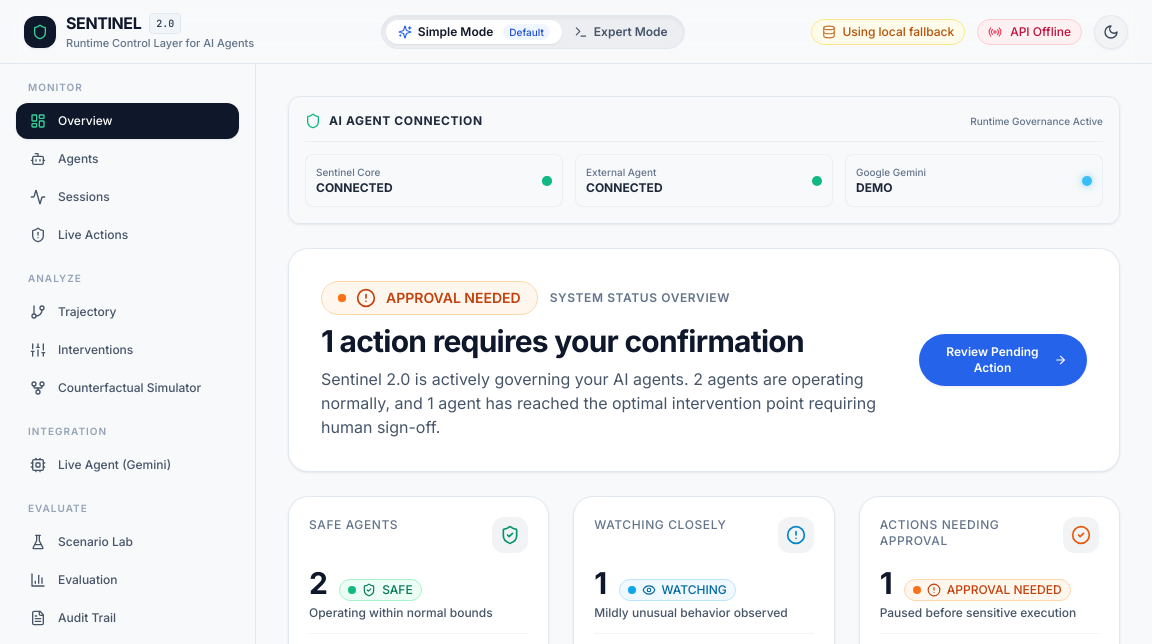
Test case: Sentinel 2.0 Frontend Foundation › switches seamlessly to Expert Mode and back without crashing
# Switch to Expert Mode
What coordinates should you click on to do the following:
click the radio button labelled "Expert Mode"
I would click on:
 (621, 32)
Its box is 562,20 -> 680,44.
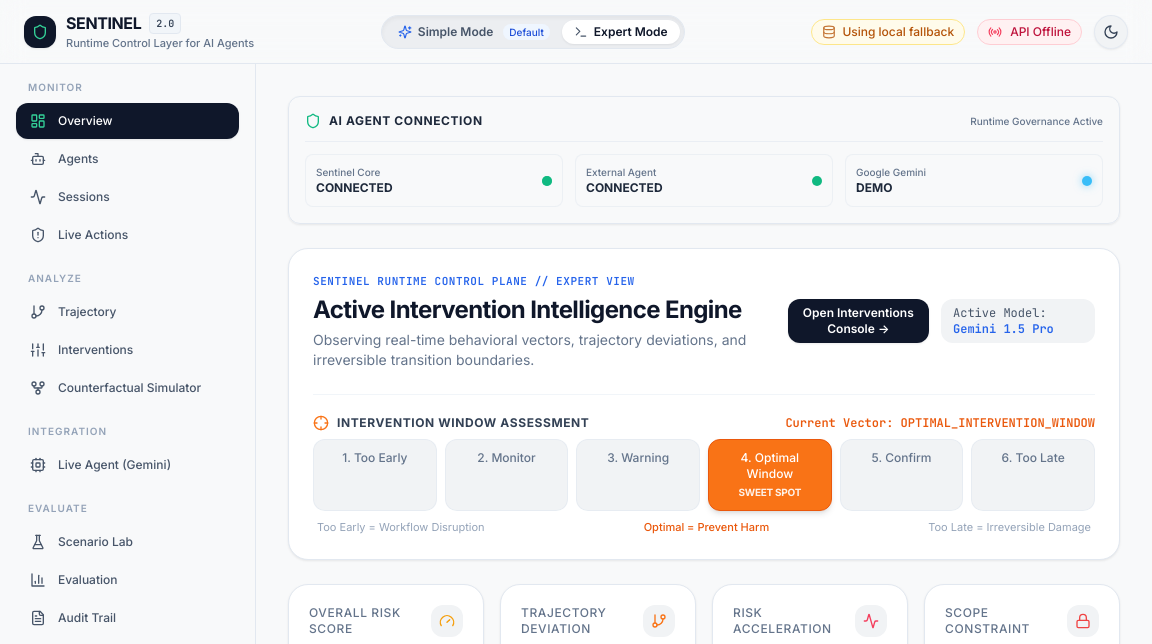
Expected: the text "Intervention Window Assessment" is shown, 313,414 -> 590,430
Expected: the heading "Active Intervention Intelligence Engine" is shown, 313,294 -> 772,326
Expected: the text "trajectory deviation" is shown, 313,330 -> 746,368
# Switch back to Simple Mode
What coordinates should you click on to do the following:
click the radio button labelled "Simple Mode Default"
I would click on:
 (474, 32)
Its box is 386,20 -> 562,44.
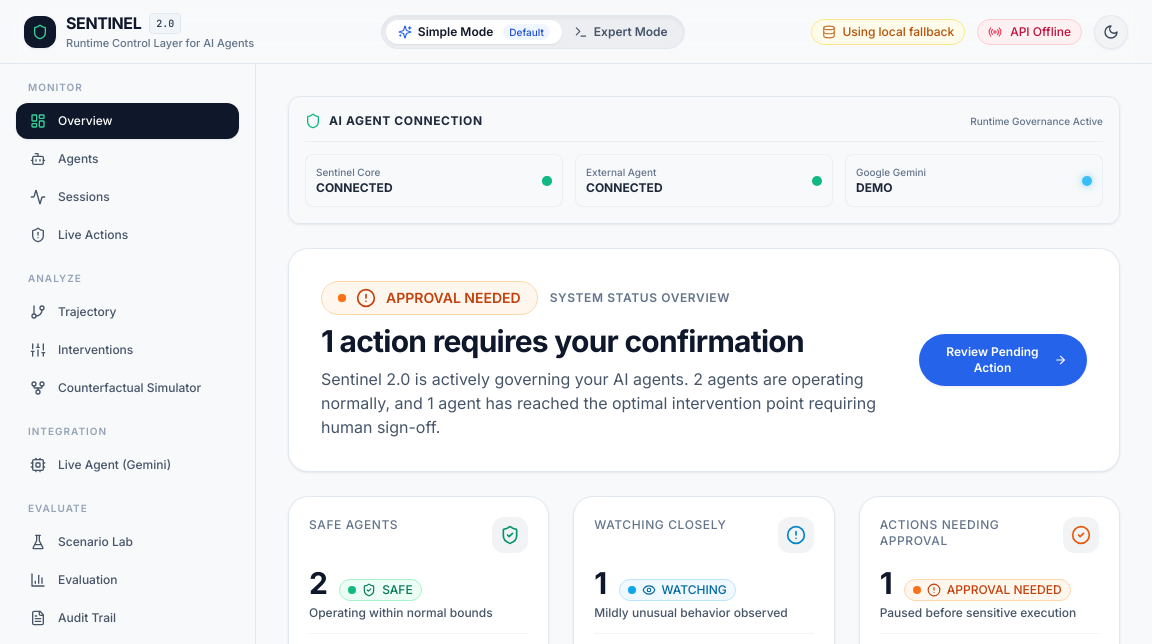
Expected: the text "System Status Overview" is shown, 550,290 -> 730,306
